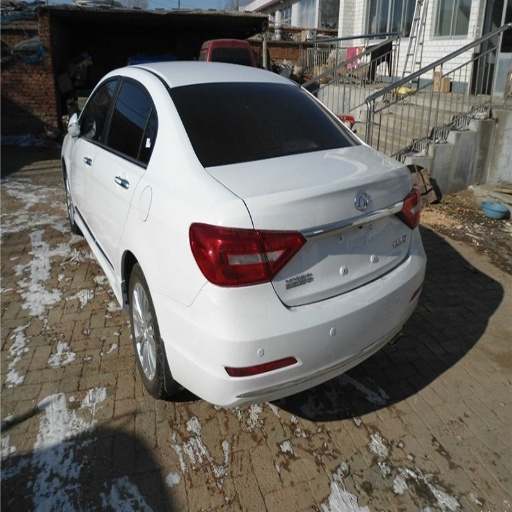back_bumper: (157, 250, 424, 406)
back_glass: (170, 83, 357, 166)
back_left_door: (91, 75, 153, 253)
